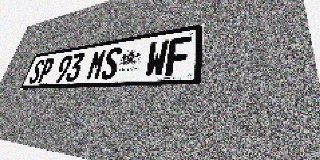3: (64, 52, 86, 82)
9: (53, 54, 74, 82)
F: (165, 36, 192, 76)
M: (85, 49, 108, 81)
P: (36, 57, 55, 83)
S: (100, 46, 123, 80), (27, 59, 46, 84)
W: (144, 39, 169, 77)
